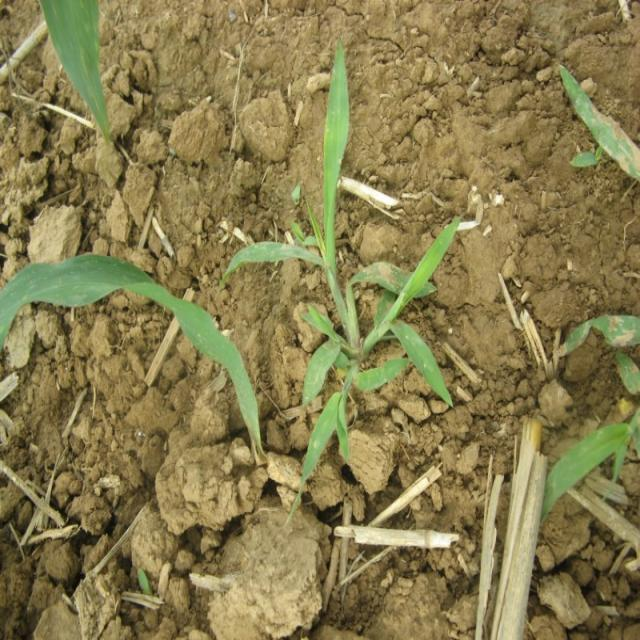bg: (234, 48, 460, 479)
